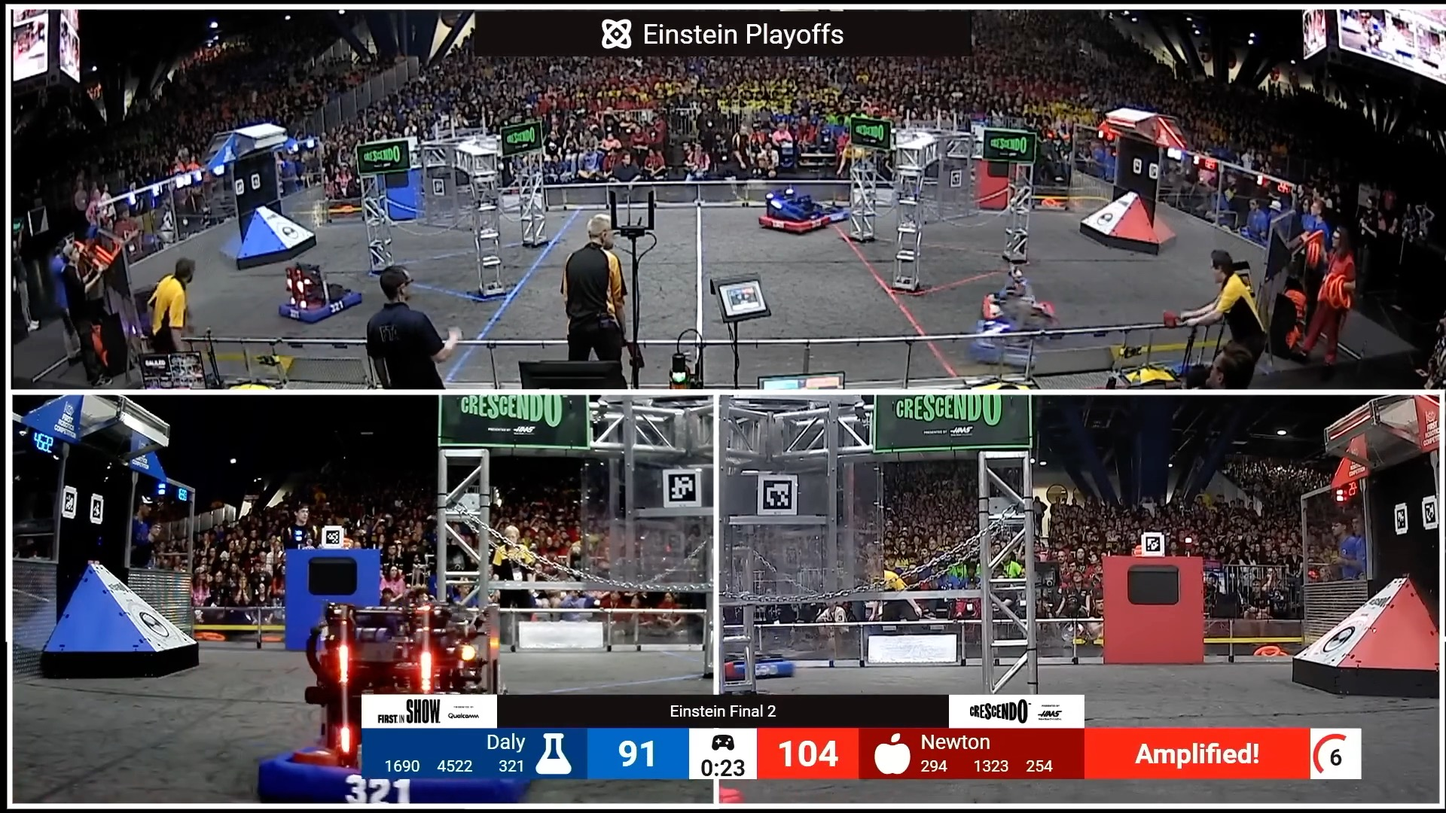bumpers: (259, 736, 542, 807), (978, 292, 1068, 339), (969, 319, 1045, 373), (273, 289, 370, 329), (711, 652, 801, 685), (756, 203, 834, 240), (815, 200, 856, 221)
